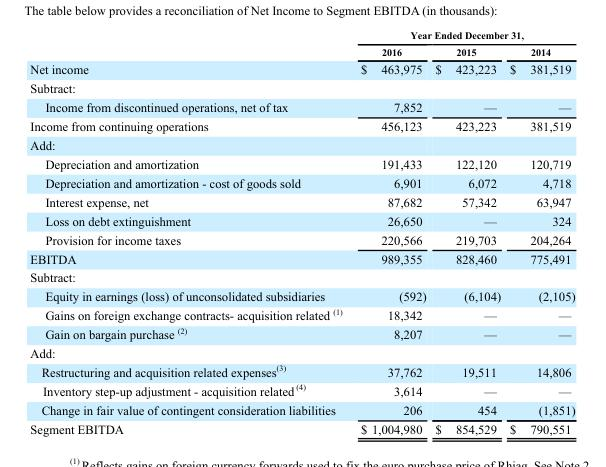table: (29, 29, 574, 435)
table column: (29, 29, 350, 435), (350, 29, 430, 435), (430, 29, 504, 435), (504, 29, 574, 435)
table column header: (29, 29, 574, 59)
table projected row header: (29, 78, 574, 97), (29, 135, 574, 154), (29, 267, 574, 286), (29, 343, 574, 361)
table row: (29, 323, 574, 343), (29, 380, 574, 400), (29, 59, 574, 78), (29, 78, 574, 97), (29, 97, 574, 116), (29, 116, 574, 135), (29, 135, 574, 154), (29, 154, 574, 173), (29, 191, 574, 210), (29, 210, 574, 229), (29, 229, 574, 248), (29, 248, 574, 267), (29, 267, 574, 286), (29, 304, 574, 323), (29, 361, 574, 380), (29, 400, 574, 419), (29, 173, 574, 191), (29, 286, 574, 304), (29, 343, 574, 361), (29, 43, 574, 59), (29, 419, 574, 435), (29, 29, 574, 43)
table spanning cell: (350, 29, 574, 43)
